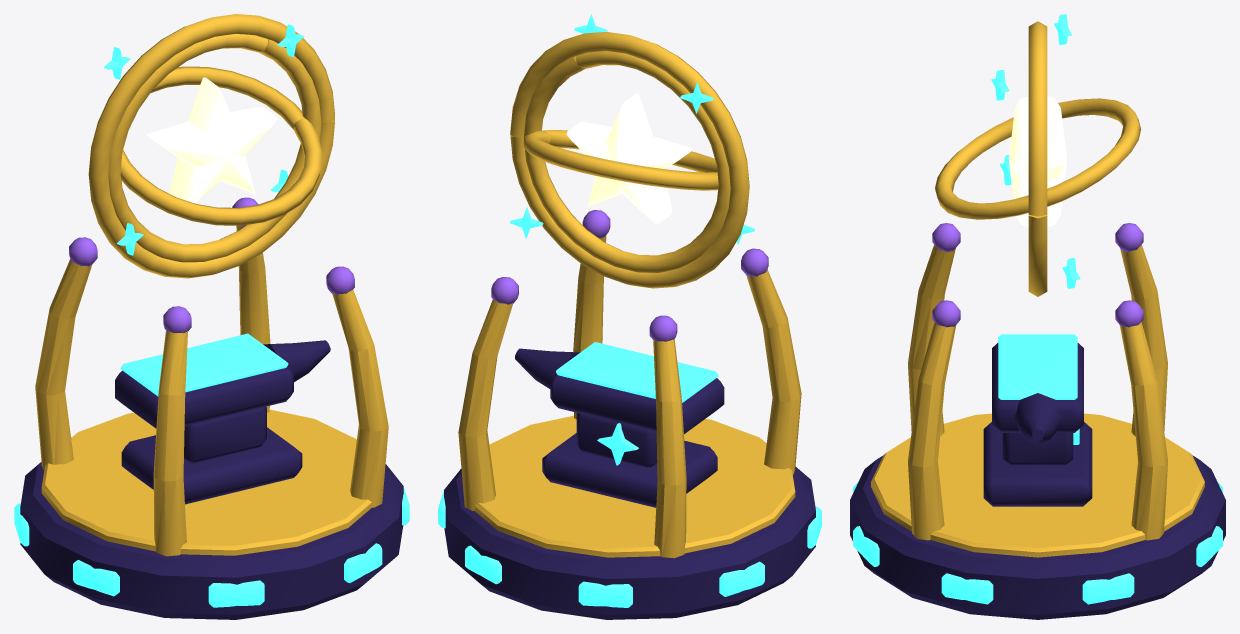
File: Equip_star_forge.glb
3 renders of one model, left to right at view 1: azimuth 30°, elevation 25°; view 2: azimuth 150°, elevation 25°; view 3: azimuth 270°, elevation 25°, orthographic. The views are drawn at different scales.
Visible parts, largest first — view 1: Gold_FFC83D, Cosmic_2A1F5C, Cyan_35C9F0, StarCore_FFF3A0, Purple_A66BFF; view 2: Gold_FFC83D, Cosmic_2A1F5C, Cyan_35C9F0, StarCore_FFF3A0, Purple_A66BFF; view 3: Gold_FFC83D, Cosmic_2A1F5C, Cyan_35C9F0, StarCore_FFF3A0, Purple_A66BFF.
Part boxes in pixels (x1,y1,x2,y2): Gold_FFC83D: [35, 14, 388, 556]; Cosmic_2A1F5C: [20, 340, 403, 619]; Cyan_35C9F0: [14, 24, 409, 607]; StarCore_FFF3A0: [147, 77, 277, 203]; Purple_A66BFF: [69, 197, 354, 333]; Gold_FFC83D: [458, 32, 801, 558]; Cosmic_2A1F5C: [444, 348, 815, 619]; Cyan_35C9F0: [438, 14, 821, 607]; StarCore_FFF3A0: [566, 93, 692, 223]; Purple_A66BFF: [491, 210, 768, 341]; Gold_FFC83D: [871, 21, 1204, 557]; Cosmic_2A1F5C: [850, 343, 1225, 619]; Cyan_35C9F0: [853, 14, 1222, 604]; StarCore_FFF3A0: [1008, 96, 1067, 226]; Purple_A66BFF: [932, 223, 1143, 327].
Bounding box in the file's own units: 9 × 13.51 × 9.
